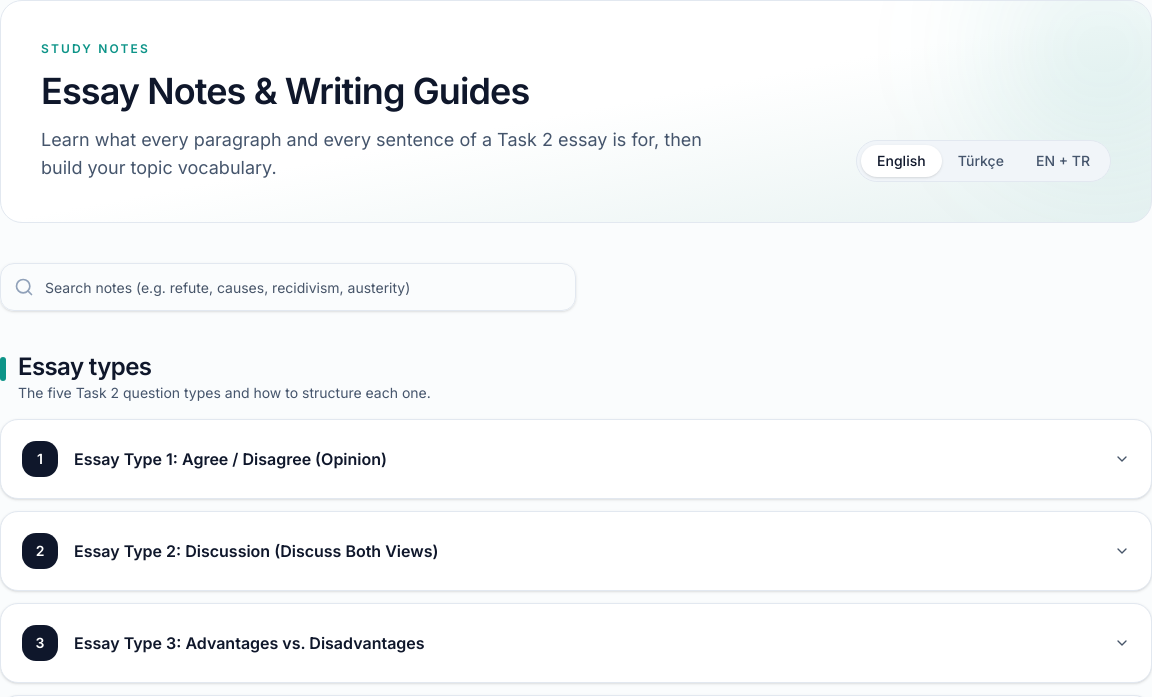
Scenario: NotesBrowser writing guides › teaches paragraph and sentence roles inside an opened essay type
This screenshot has width=1152, height=697.
Click the button "1 Essay Type 1: Agree / Disagree (Opinion)".
click(40, 459)  # box 21,420 -> 1131,498
(page scrolled)
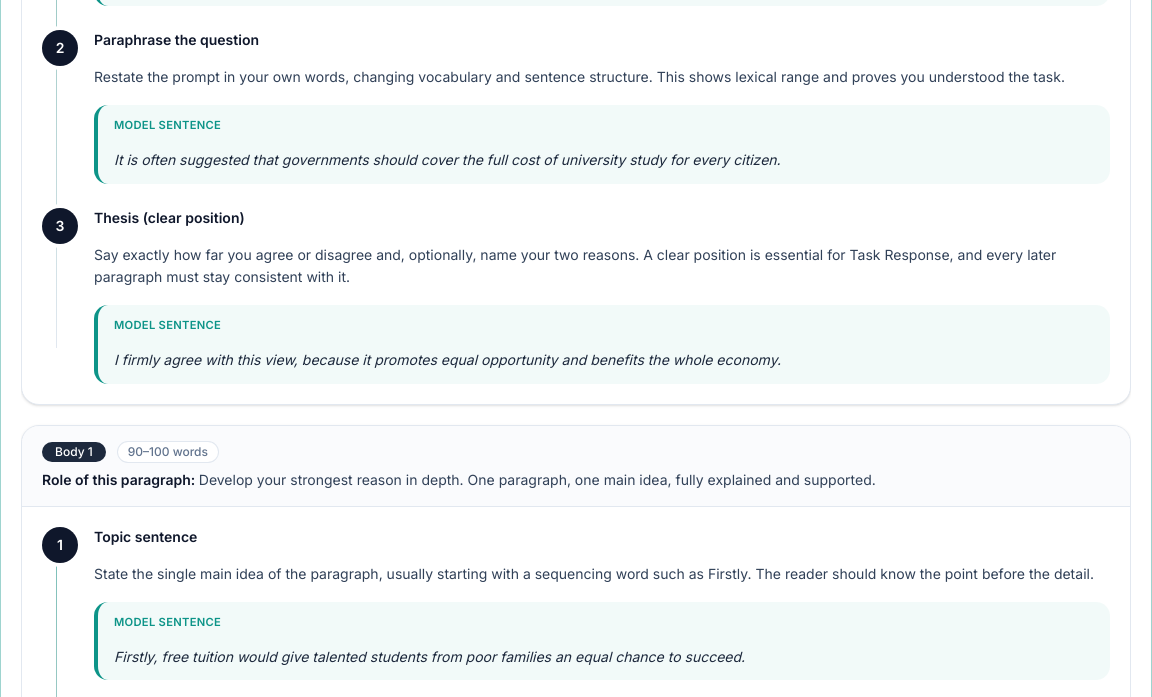
Now the number of elements named "guide" is 4
Now the text "Thesis (clear position)" is shown, box 94,208 -> 245,226
Now the text "I firmly agree with this view" is shown, box 114,351 -> 781,368
